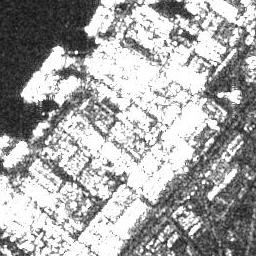ship: (80, 3, 106, 34), (17, 69, 43, 99), (40, 43, 65, 74)
